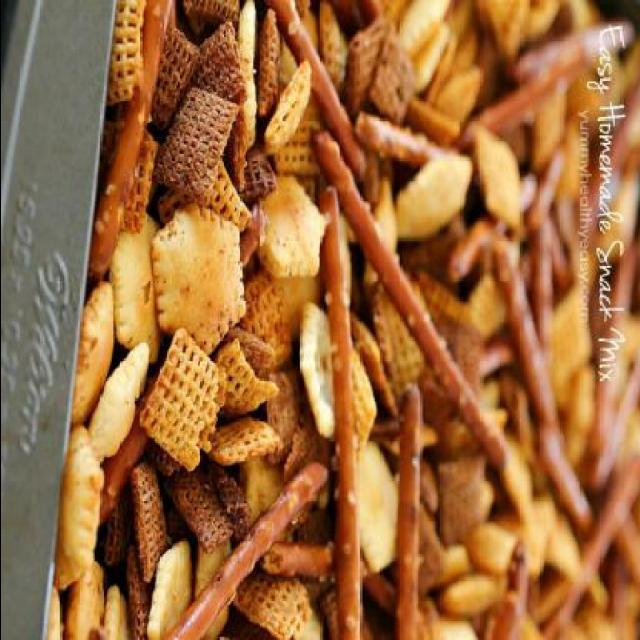Salatini packaged: (70, 13, 587, 639)
